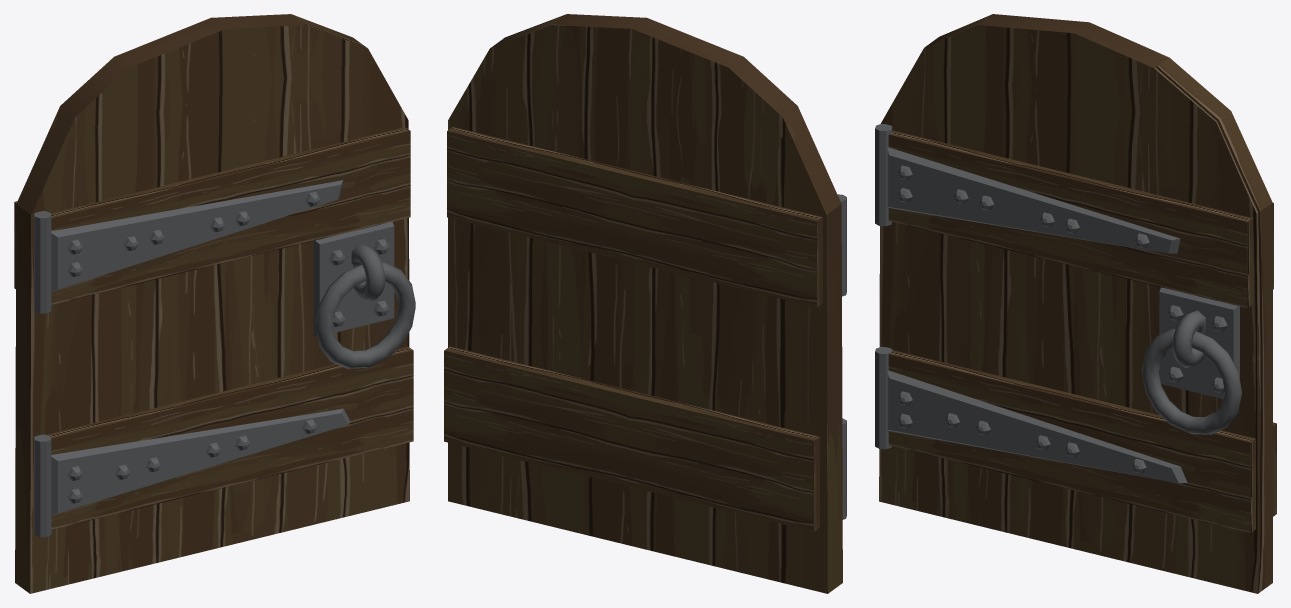
File: Wooden_Door.fbx
3 views of the same model, side by side, from view 1: azimuth 30°, elevation 25°; view 2: azimuth 150°, elevation 25°; view 3: azimuth 330°, elevation 25° (orthographic).
Visible parts, largest first — view 1: door_base, door_wood_2, door_wood_1, metal_triangle_2, metal_triangle_1, door_ring, door_lock, hinge_2, hinge_1, door_handle; view 2: door_base, door_wood_4, door_wood_3, hinge_1; view 3: door_base, door_wood_2, door_wood_1, metal_triangle_2, metal_triangle_1, door_ring, door_lock, hinge_1, hinge_2, door_handle.
Boxes of the visible parts, box(x1,y1,x2,y2) form: door_base: box(15, 14, 409, 593); door_wood_2: box(46, 346, 413, 529); door_wood_1: box(50, 127, 410, 304); metal_triangle_2: box(51, 408, 350, 515); metal_triangle_1: box(51, 180, 343, 291); door_ring: box(315, 262, 415, 368); door_lock: box(313, 221, 394, 336); hinge_2: box(34, 434, 51, 537); hinge_1: box(34, 211, 51, 313); door_handle: box(351, 244, 385, 301); door_base: box(448, 14, 842, 593); door_wood_4: box(444, 346, 819, 531); door_wood_3: box(447, 127, 822, 307); hinge_1: box(837, 194, 846, 296); door_base: box(879, 14, 1272, 593); door_wood_2: box(888, 350, 1255, 533); door_wood_1: box(888, 130, 1252, 308); metal_triangle_2: box(887, 370, 1187, 483); metal_triangle_1: box(887, 147, 1180, 253); door_ring: box(1142, 329, 1241, 434); door_lock: box(1159, 287, 1239, 398); hinge_1: box(875, 124, 892, 226); hinge_2: box(875, 346, 892, 449); door_handle: box(1172, 310, 1205, 368).
Bounding box in the file's own units: 219 × 285 × 46.51.
2 materials, 1 textured.
